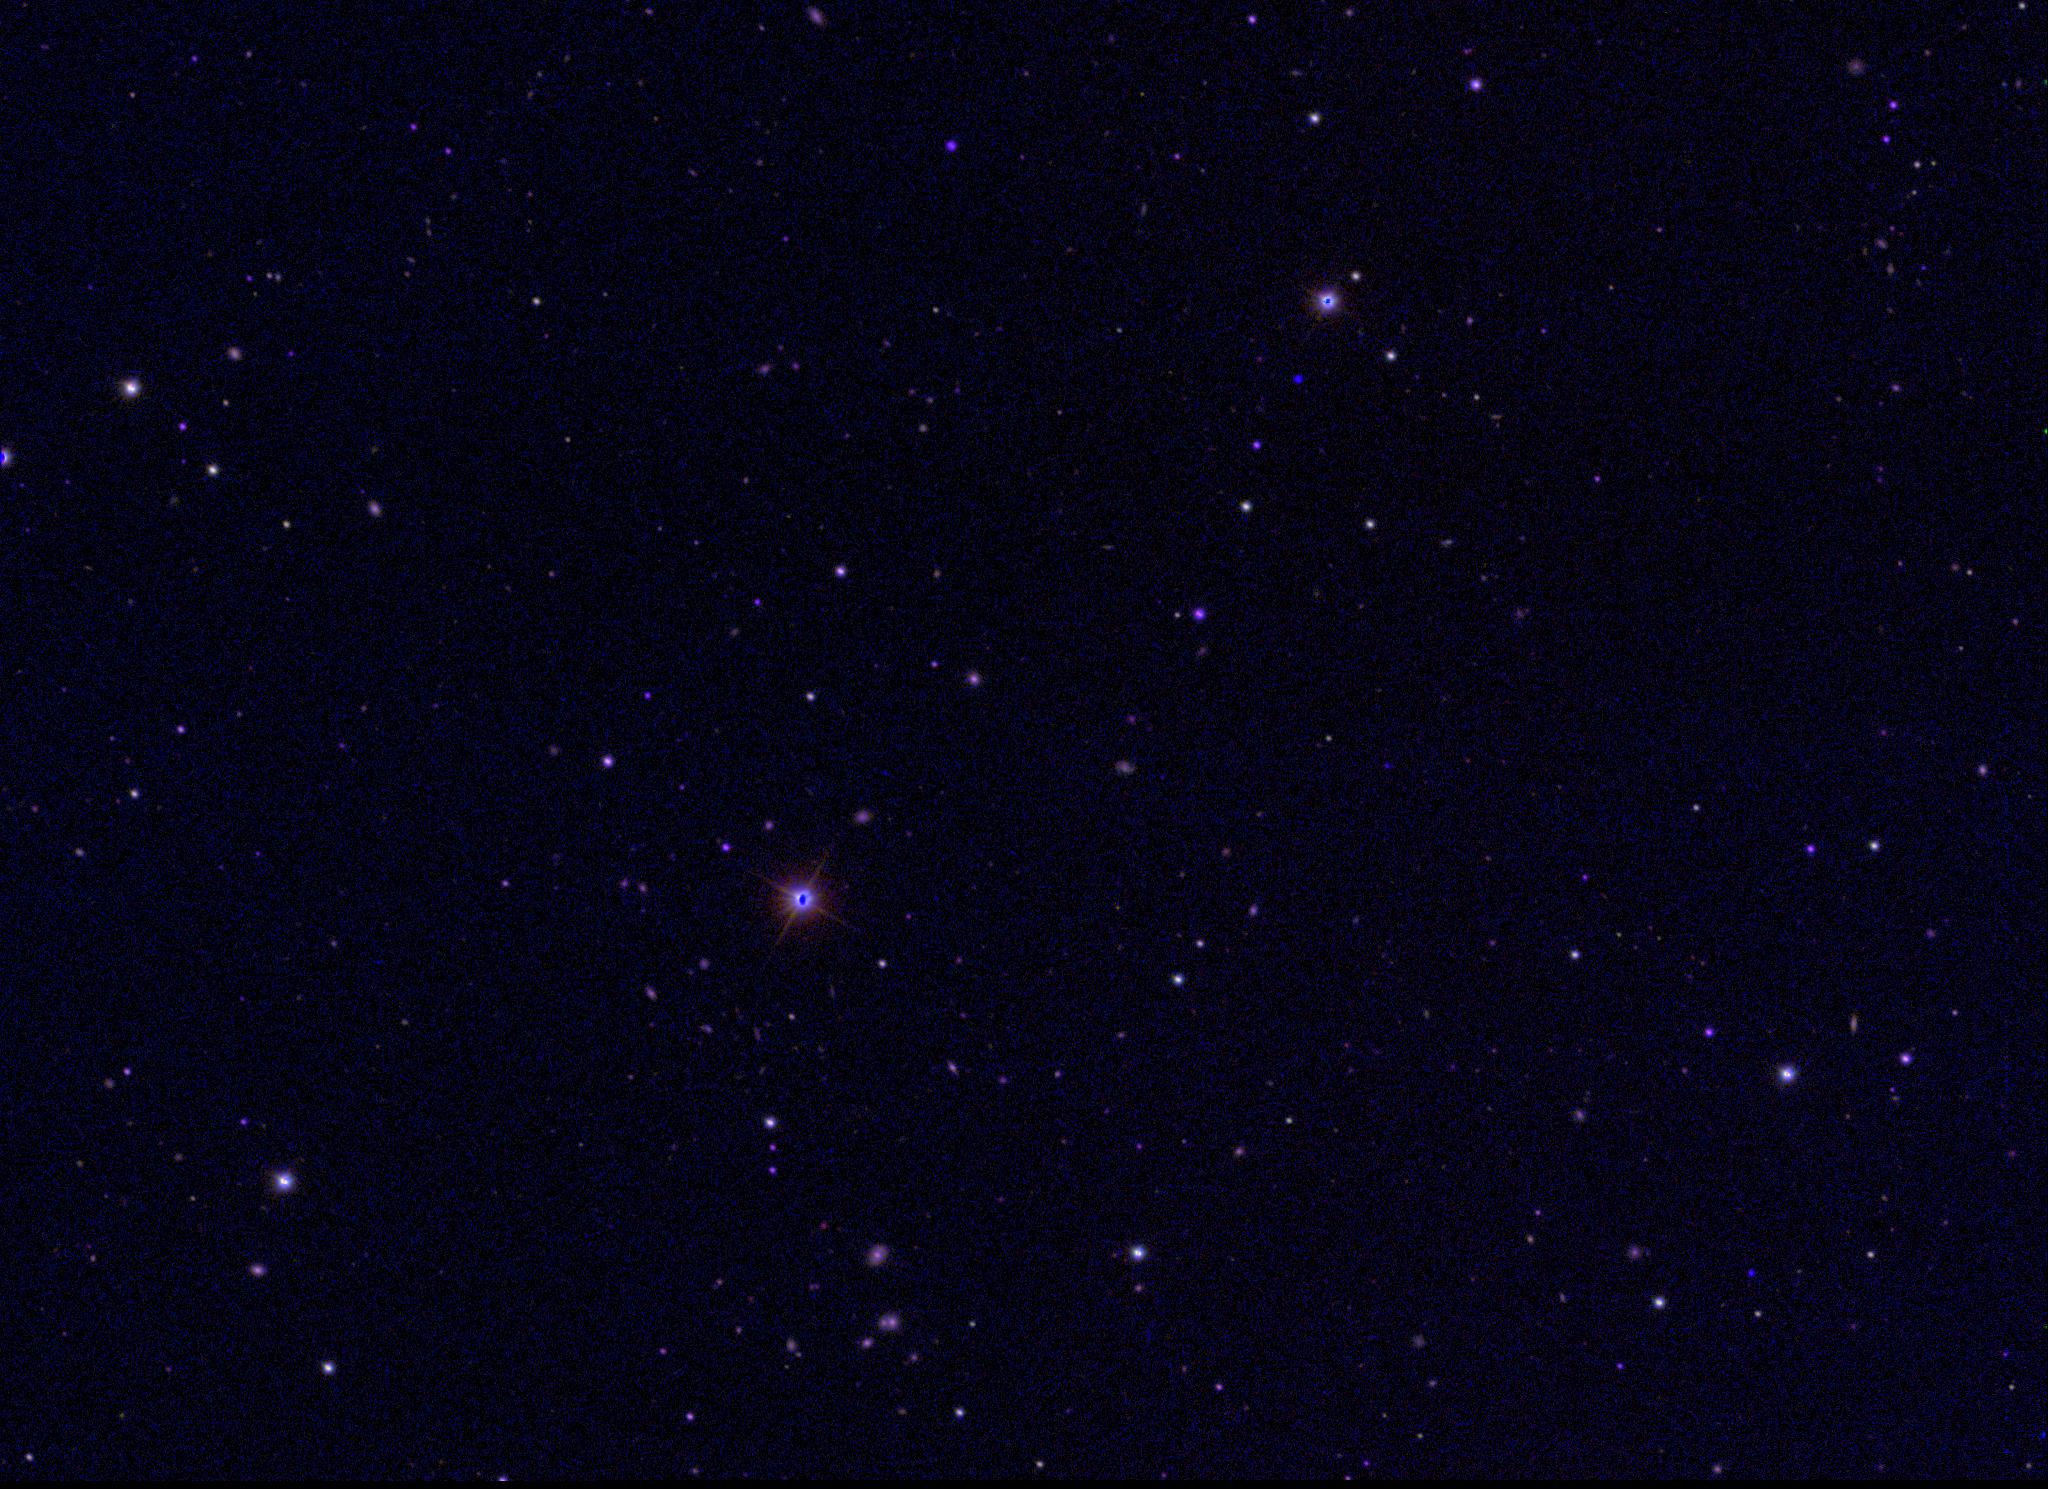L: (1744, 1266, 1759, 1281), (1293, 369, 1305, 383)
